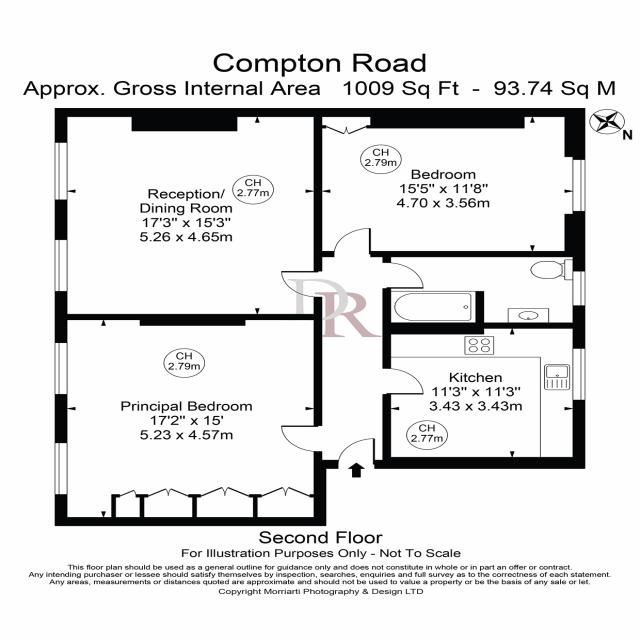DOOR: (382, 261, 426, 291), (382, 367, 427, 396), (337, 437, 376, 469), (280, 270, 323, 299), (333, 227, 373, 258), (279, 425, 323, 453)
ROOM: (54, 108, 323, 326), (54, 313, 326, 527), (313, 108, 586, 257), (381, 322, 586, 469)
WINDOW: (54, 142, 69, 201), (571, 158, 587, 212), (54, 341, 69, 395), (54, 239, 69, 292), (54, 442, 69, 495), (571, 348, 586, 401), (571, 271, 586, 306)
